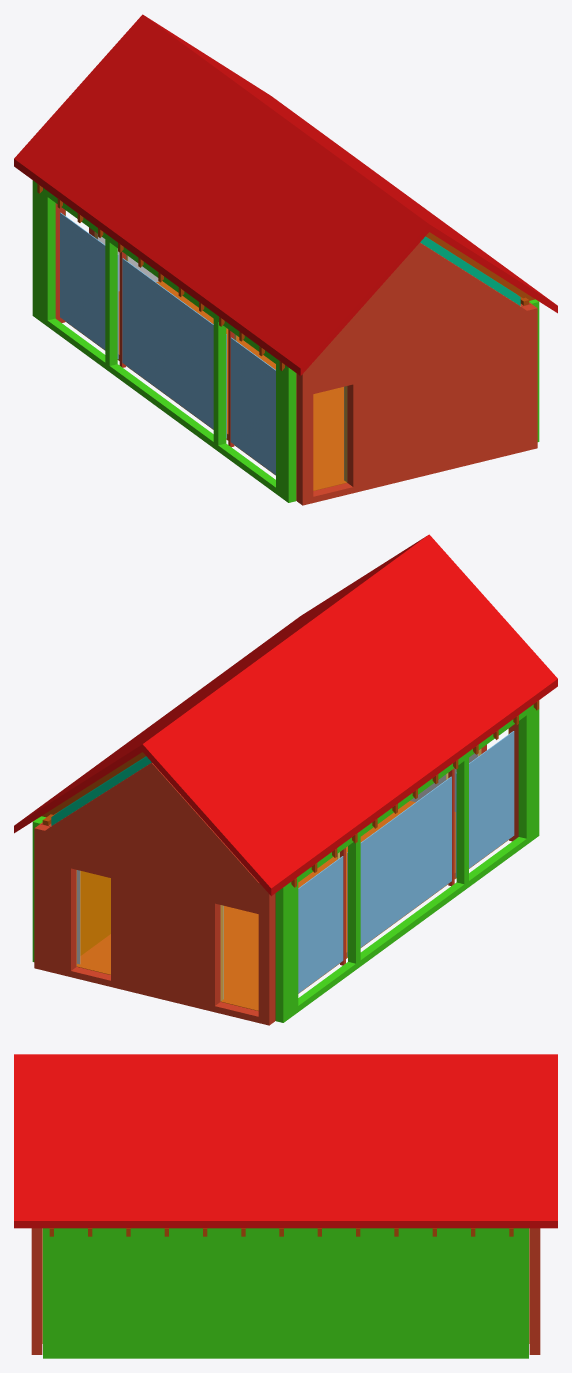
The model's file is obyvak.glb.
3 renders of one model, top to bottom at view 1: azimuth 30°, elevation 25°; view 2: azimuth 150°, elevation 25°; view 3: azimuth 270°, elevation 25°, orthographic. The views are drawn at different scales.
Visible parts, largest first — view 1: roofing, masonry (×2), glazing (×3), eps, floor, plenum_wool, rafters; view 2: roofing, masonry (×2), glazing (×3), eps, floor, furniture, plenum_wool, rafters; view 3: roofing, eps, masonry (×2).
Boxes of the visible parts, x1=… form: roofing: x1=14, y1=14, x2=557, y2=376; masonry (×2): x1=55, y1=203, x2=537, y2=505; glazing (×3): x1=60, y1=212, x2=275, y2=474; eps: x1=32, y1=180, x2=296, y2=502; floor: x1=65, y1=281, x2=346, y2=490; plenum_wool: x1=420, y1=236, x2=520, y2=305; rafters: x1=279, y1=232, x2=535, y2=370; roofing: x1=14, y1=534, x2=557, y2=896; masonry (×2): x1=34, y1=724, x2=518, y2=1025; glazing (×3): x1=298, y1=731, x2=514, y2=993; eps: x1=275, y1=704, x2=539, y2=1022; floor: x1=77, y1=801, x2=508, y2=1010; furniture: x1=80, y1=871, x2=110, y2=955; plenum_wool: x1=51, y1=756, x2=151, y2=825; rafters: x1=41, y1=752, x2=296, y2=887; roofing: x1=14, y1=1054, x2=557, y2=1228; eps: x1=43, y1=1228, x2=528, y2=1358; masonry (×2): x1=31, y1=1228, x2=540, y2=1354.
Size of the model in its own units: 6.44 by 6.21 by 12.43.
